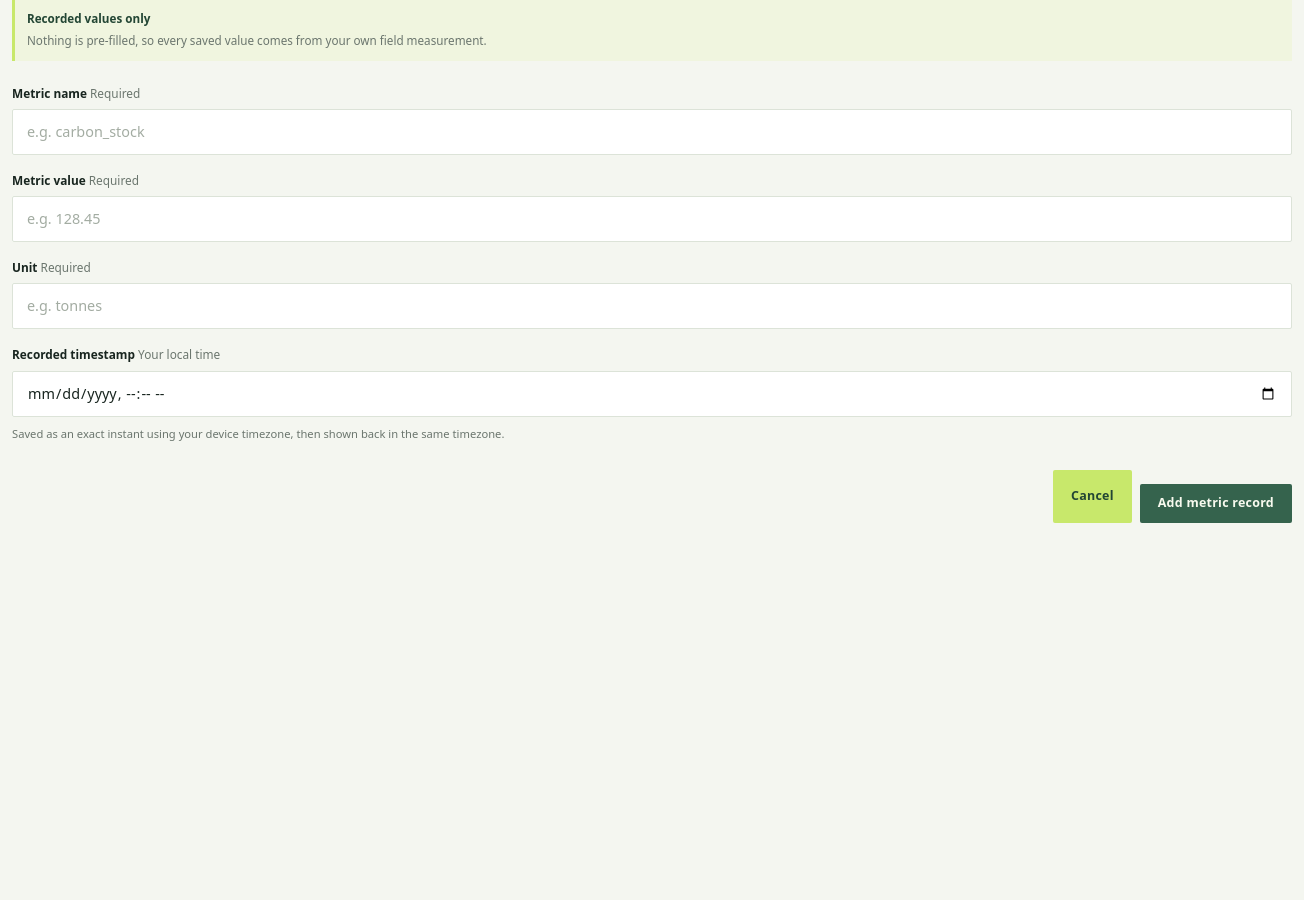
Test: MetricForm validation › clears a field error once the user corrects the field
This screenshot has width=1304, height=900.
Click the button "Add metric record" at (1216,504), box [1140,484,1292,523]
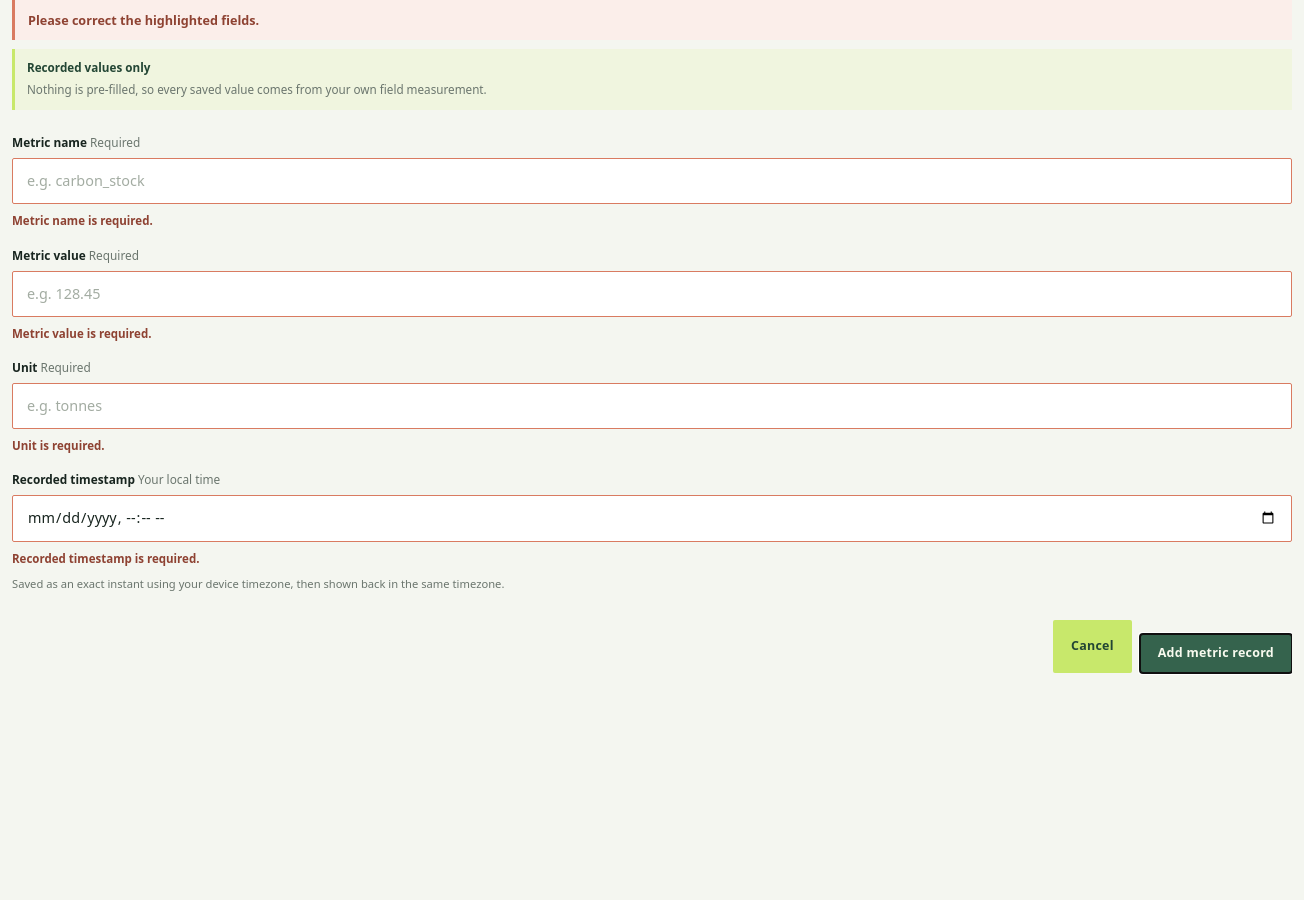
Now the text "Metric name is required." is shown, box [12,213,153,228]
Type "carbon_stock" into the field labelled "Metric name Required" at (652,181), box [12,158,1292,204]
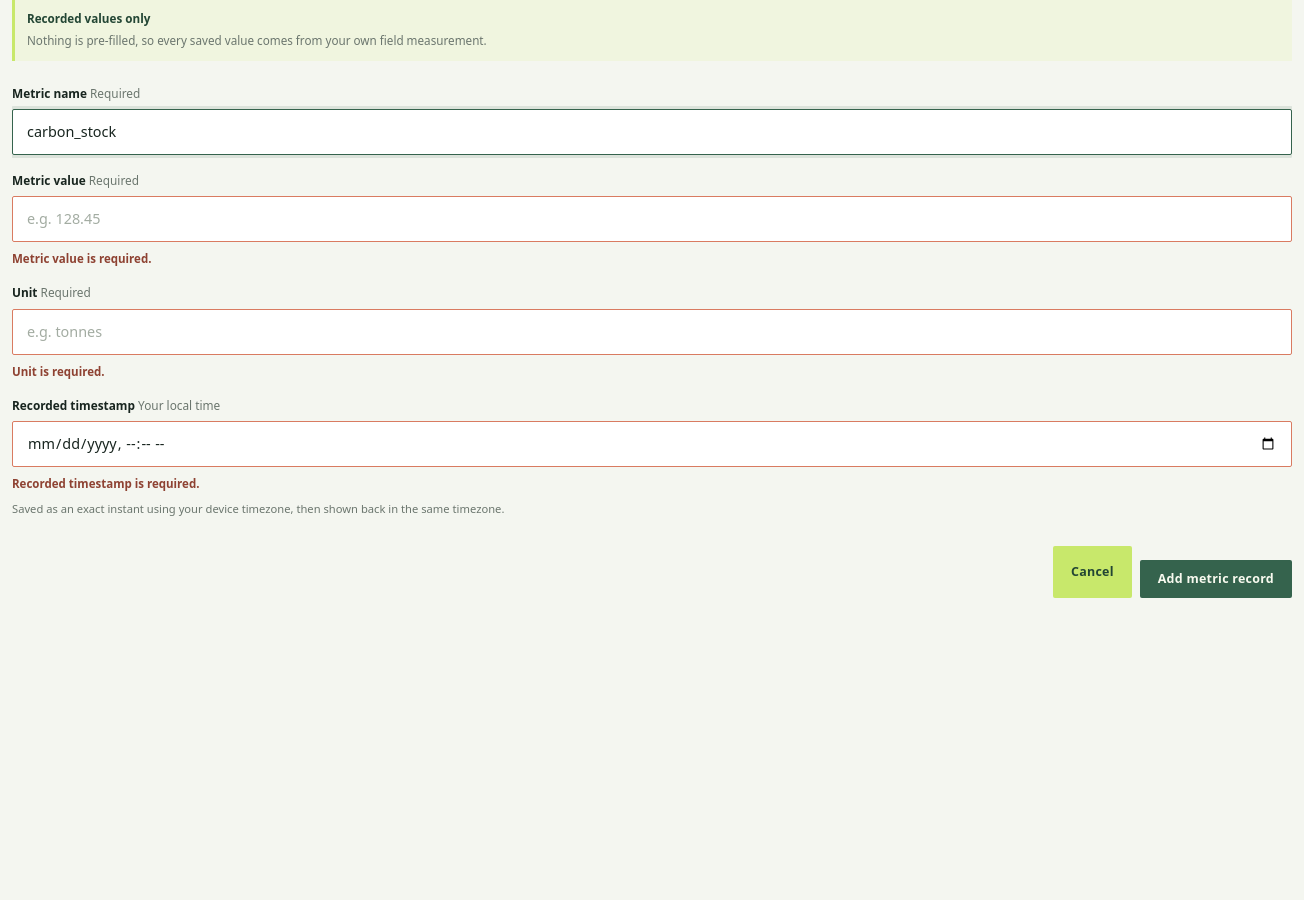
Now the text "Metric name is required." is gone
